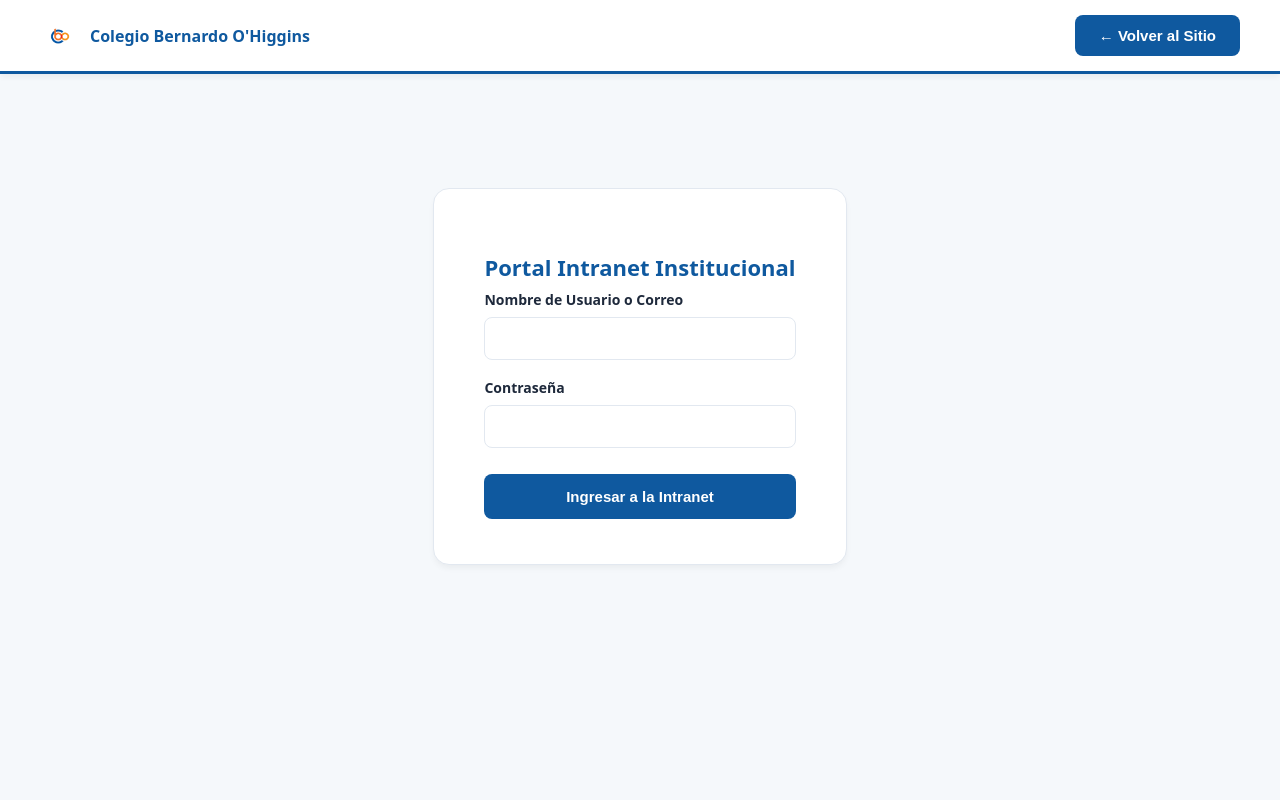
Página Login › debe mostrar mensaje genérico cuando no viene msg
Type "usuario" into the field labelled "Nombre de Usuario o Correo" at (640, 339), box x1=484 y1=317 x2=796 y2=360
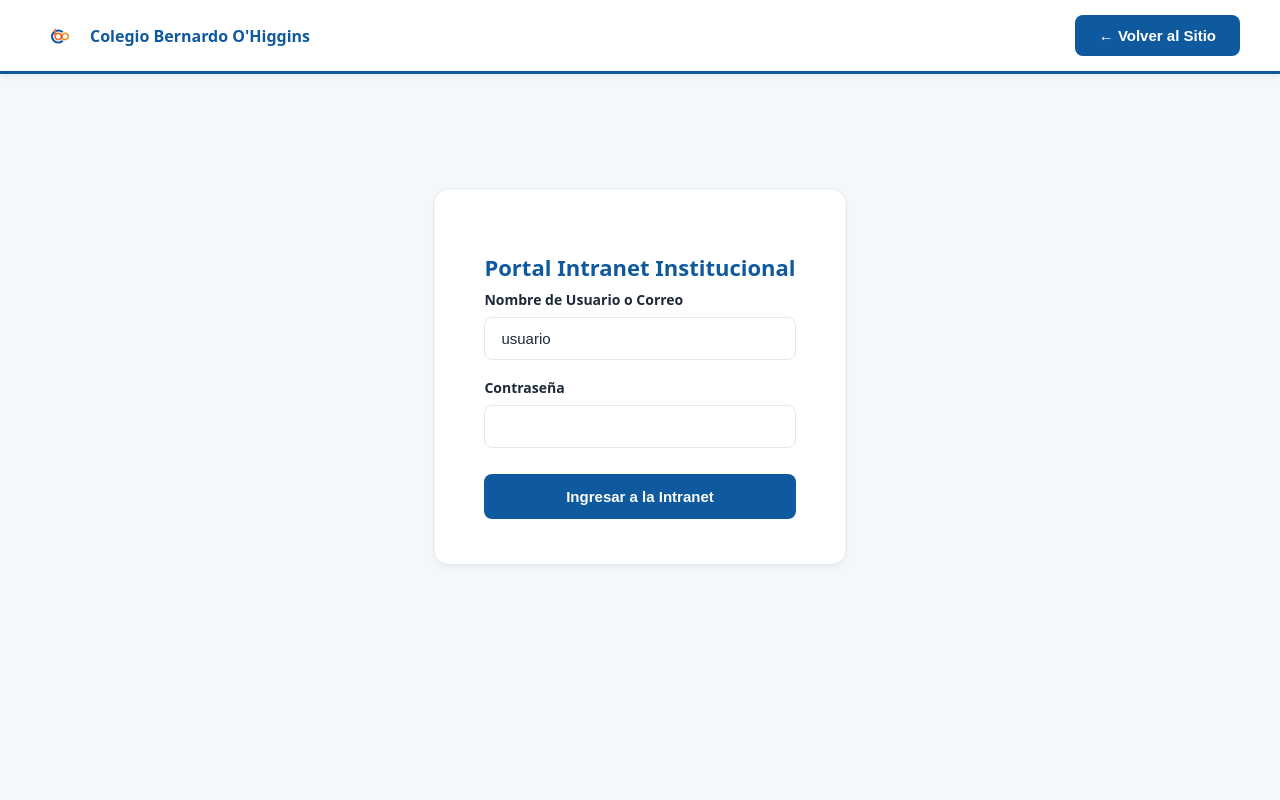
Type "1234" into the password field labelled "Contraseña" at (640, 427), box x1=484 y1=405 x2=796 y2=448
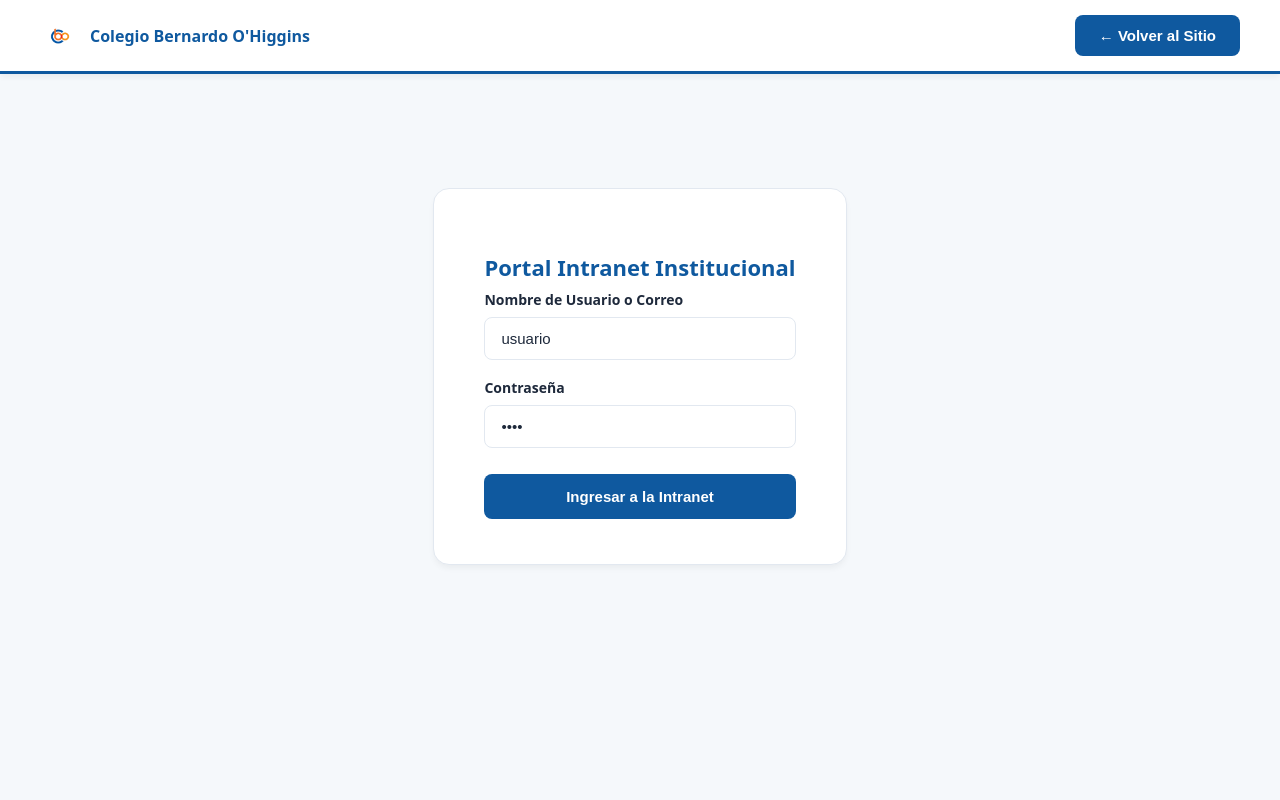
Click the button "Ingresar a la Intranet" at (640, 497), box x1=484 y1=474 x2=796 y2=519
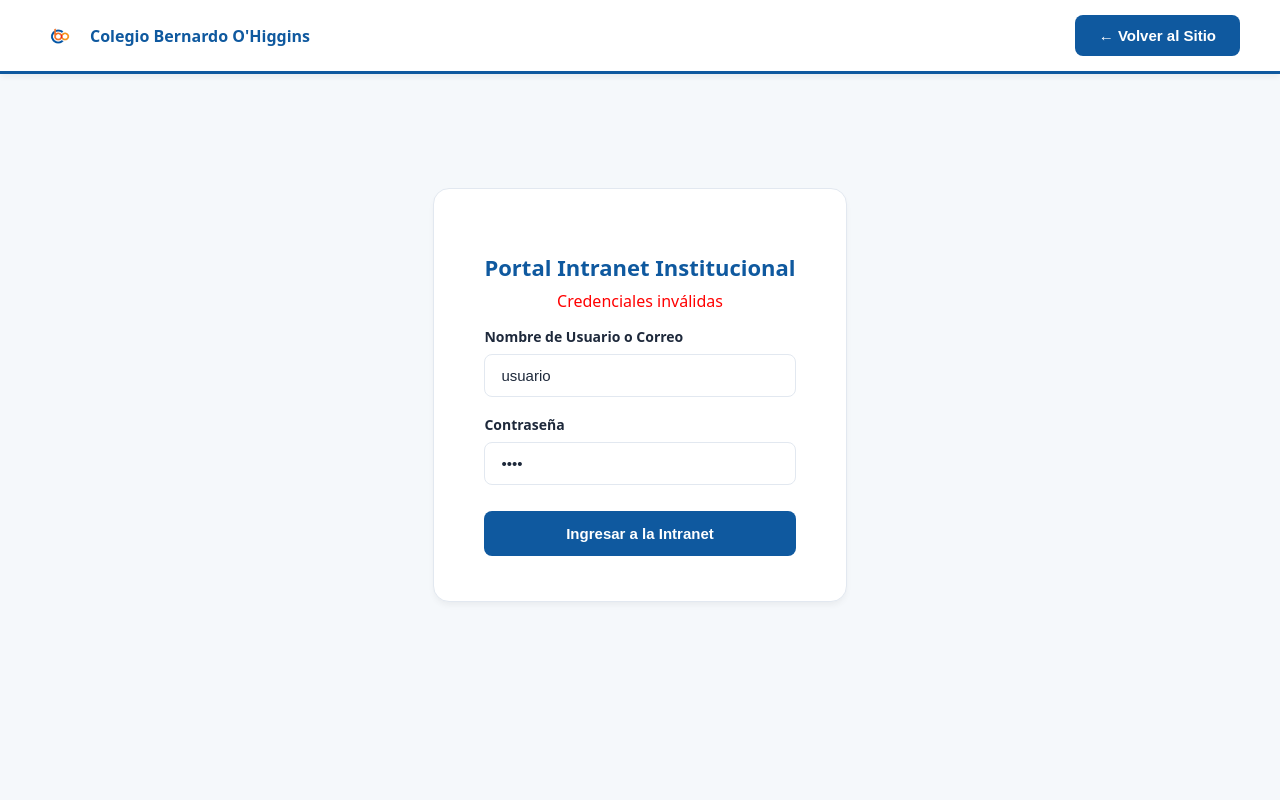
Check: the message reads "Credenciales inválidas", box x1=557 y1=290 x2=723 y2=312
